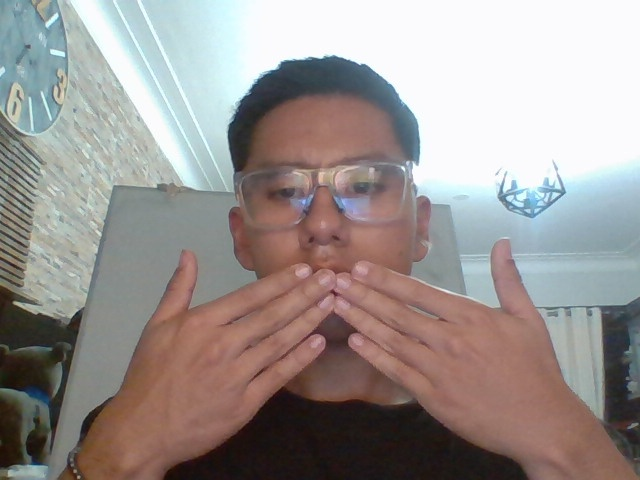Thanks: (132, 243, 573, 470)
